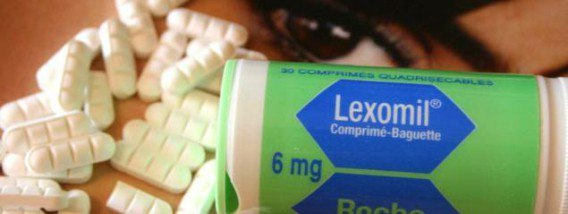Medicine: (218, 55, 568, 214)
